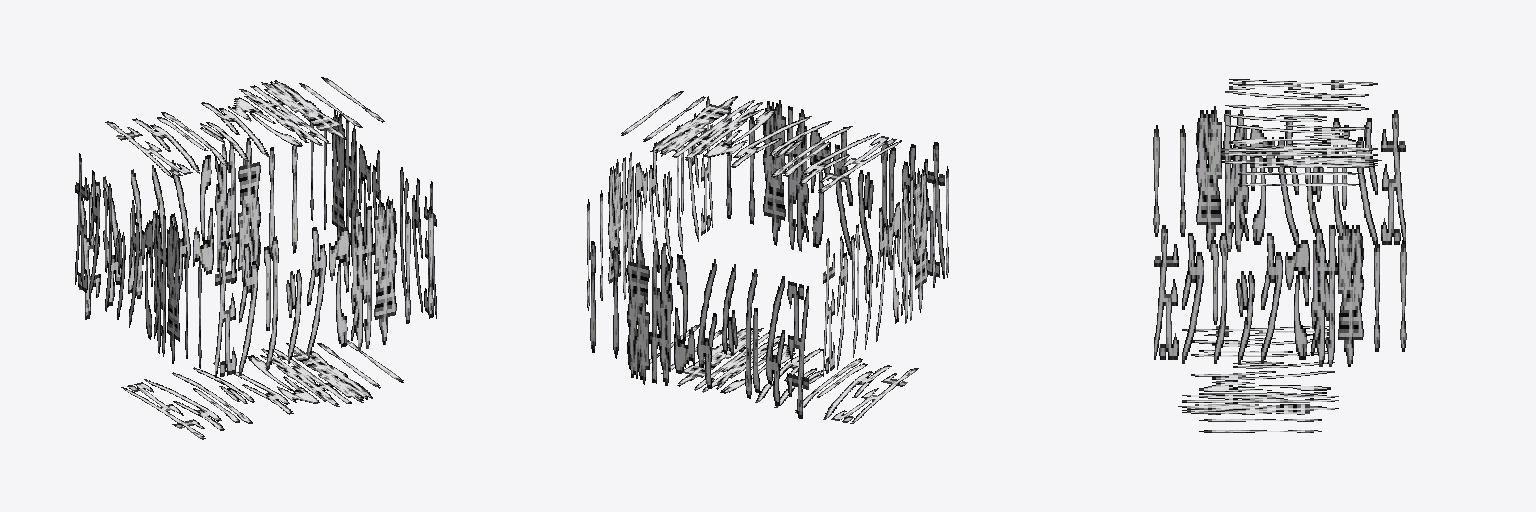
The picture shows the model from 3 angles: view 1: azimuth 30°, elevation 25°; view 2: azimuth 150°, elevation 25°; view 3: azimuth 270°, elevation 25°; orthographic projection.
Visible parts, largest first — view 1: ShotLogo; view 2: ShotLogo; view 3: ShotLogo.
Part boxes in pixels (x1,y1,x2,y2): ShotLogo: (75,77,436,439); ShotLogo: (587,91,948,423); ShotLogo: (1153,79,1406,432).
Bounding box in the file's own units: 2 × 2 × 2.
1 materials, 1 textured.